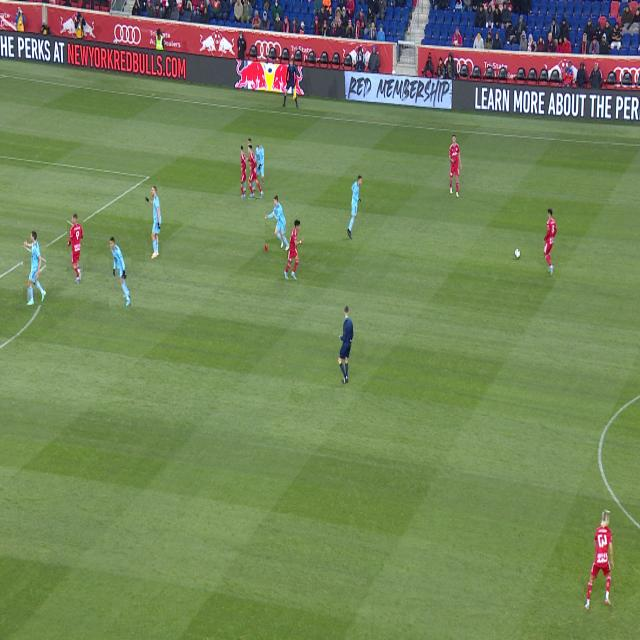football: (514, 249, 521, 259)
player: (585, 510, 614, 611), (24, 231, 46, 305), (110, 237, 131, 307), (265, 195, 290, 251), (145, 186, 162, 260), (284, 220, 304, 280), (241, 138, 260, 198), (68, 213, 83, 284), (347, 175, 362, 239), (246, 145, 264, 198), (544, 209, 557, 275), (449, 134, 462, 198)
referee: (338, 306, 353, 383)
